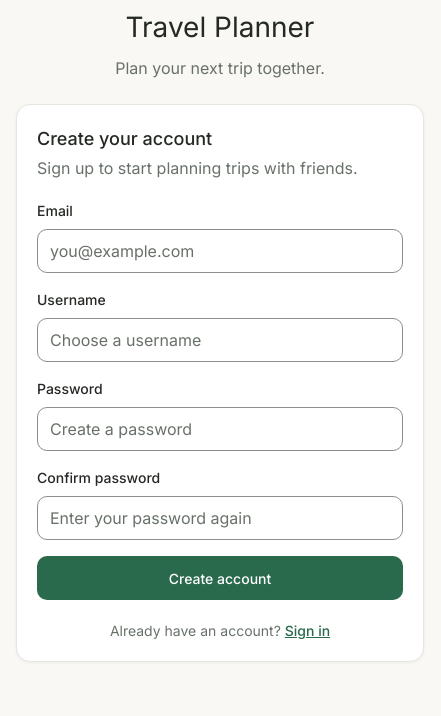
Test: shows an error when the registration username already exists
expect the heading "Create your account" is shown: met, box top-left (37, 128), bottom-right (212, 149)
Type "another-user@example.com" into the field labelled "Email" at (220, 251), box top-left (37, 229), bottom-right (403, 273)
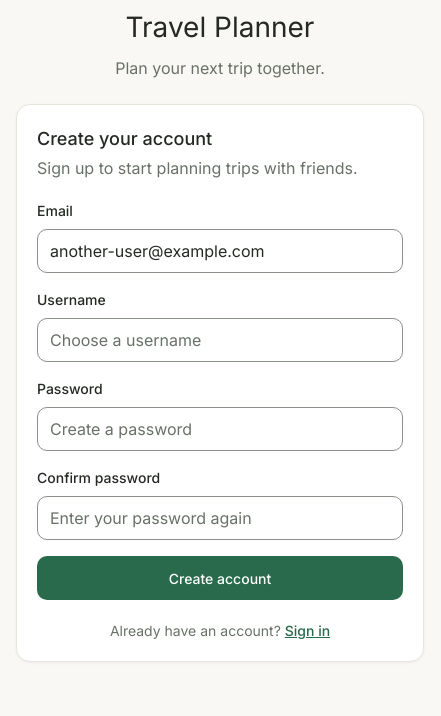
Type "existing-user" into the field labelled "Username" at (220, 340), box top-left (37, 318), bottom-right (403, 362)
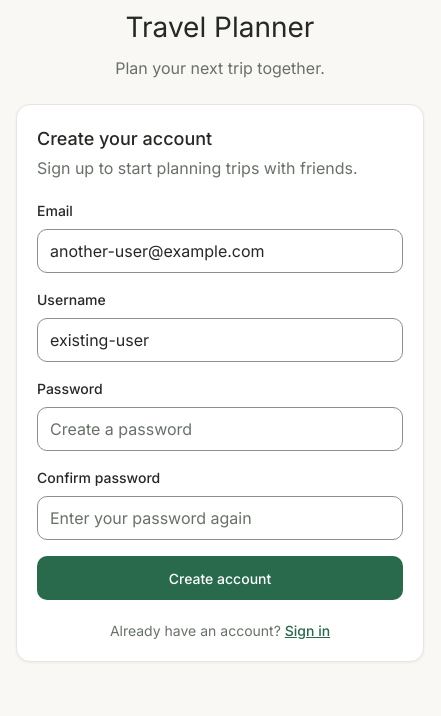
Type "example-password" into the password field labelled "Password" at (220, 429), box top-left (37, 407), bottom-right (403, 451)
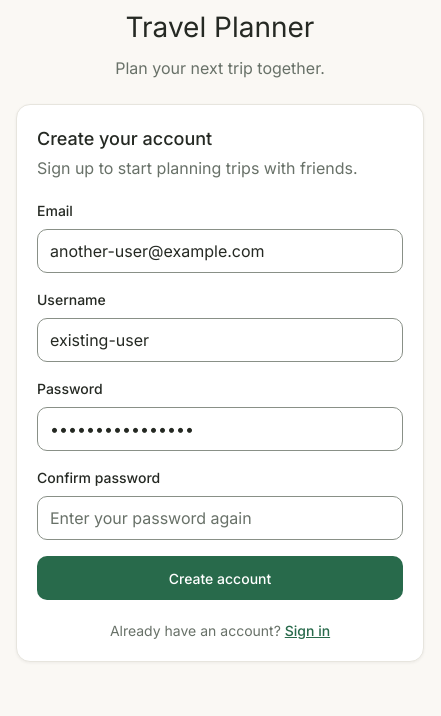
Type "example-password" into the password field labelled "Confirm password" at (220, 518), box top-left (37, 496), bottom-right (403, 540)
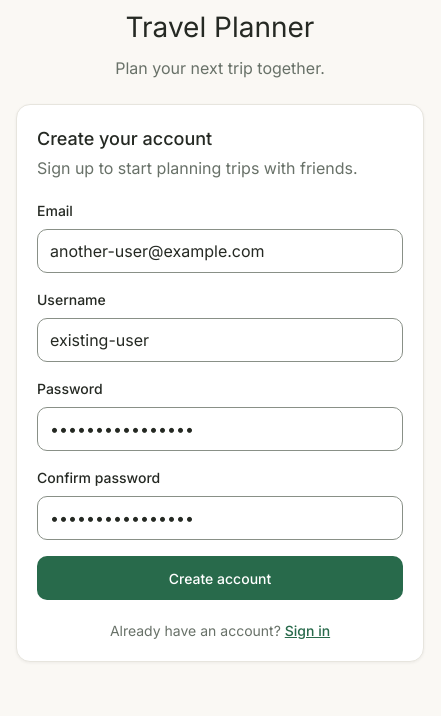
Click the button "Create account" at (220, 578), box top-left (37, 556), bottom-right (403, 600)
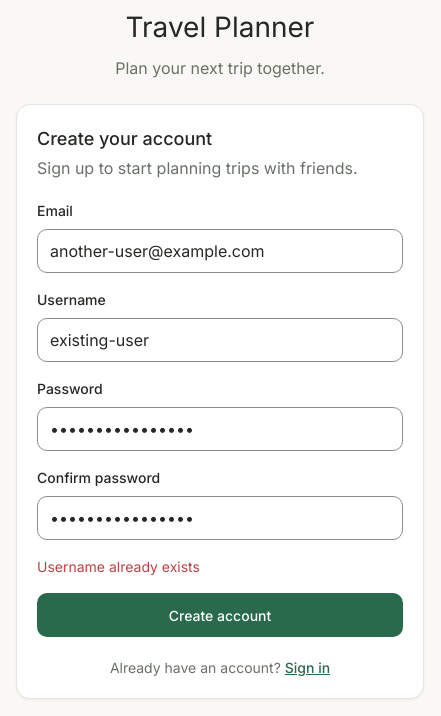
expect the button "Create account" is enabled: met, box top-left (37, 593), bottom-right (403, 637)
expect the message reads "Username already exists": met, box top-left (37, 558), bottom-right (200, 575)
